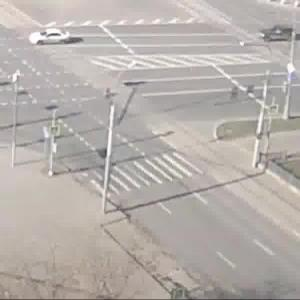car: (255, 25, 295, 46), (29, 30, 70, 48)
